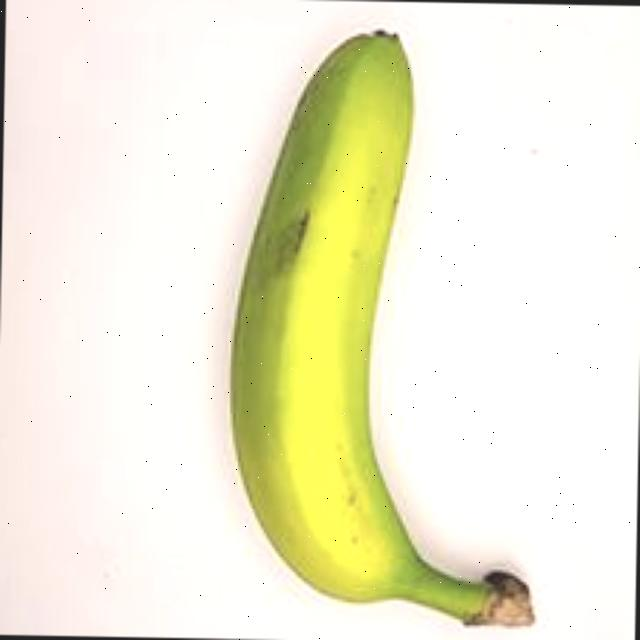Unripe: (169, 0, 595, 640)
